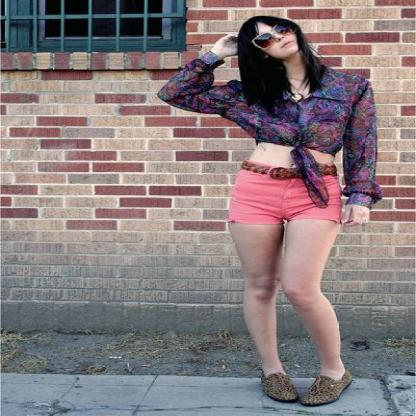shirt: (157, 46, 387, 207)
shoe: (257, 369, 349, 406)
shorts: (227, 164, 338, 233)
sunglass: (252, 34, 280, 54)
